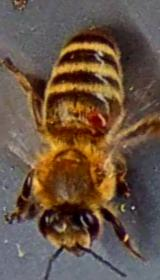varroa_mite: (80, 98, 126, 140)
